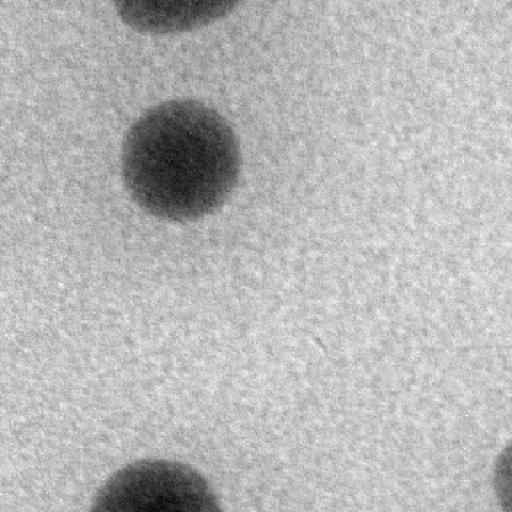Nanoparticles: (117, 98, 243, 218), (85, 459, 227, 512), (114, 0, 244, 34), (492, 442, 511, 510)
